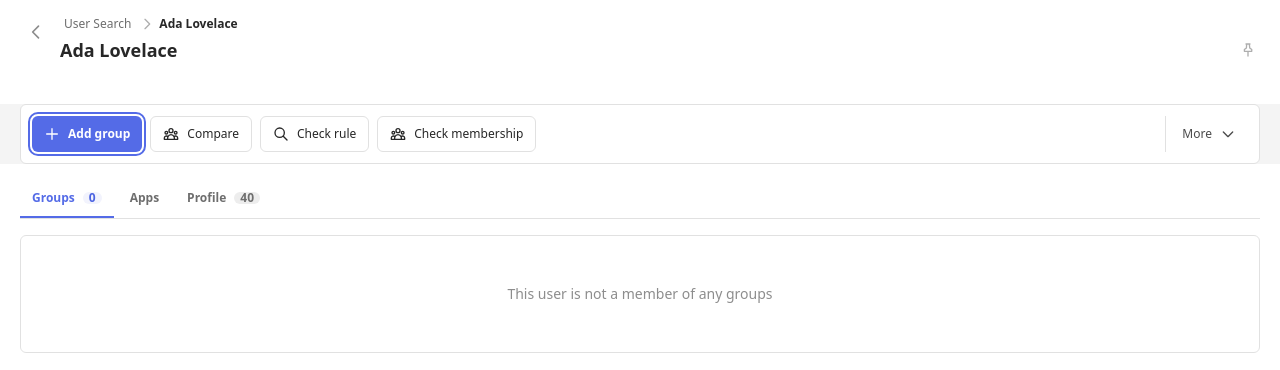
compare entry point › pushes the comparison view from the Compare action
Expected: the heading reads "Ada Lovelace", [60,38,178,62]
Click the button named "Compare".
click(201, 134)  # box [150,116,252,152]
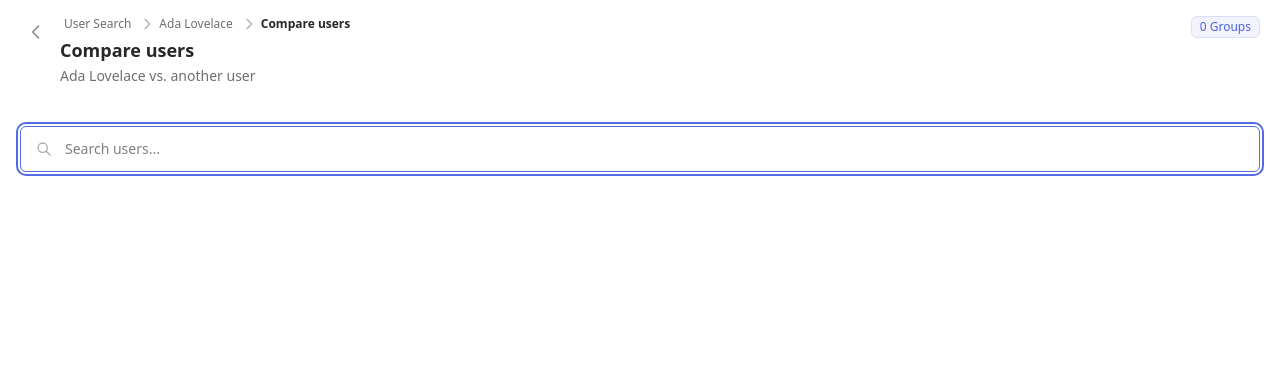
Expected: the button named "Back to user" is shown, [20,16,52,48]
Expected: the heading reads "Compare users", [60,38,194,62]
